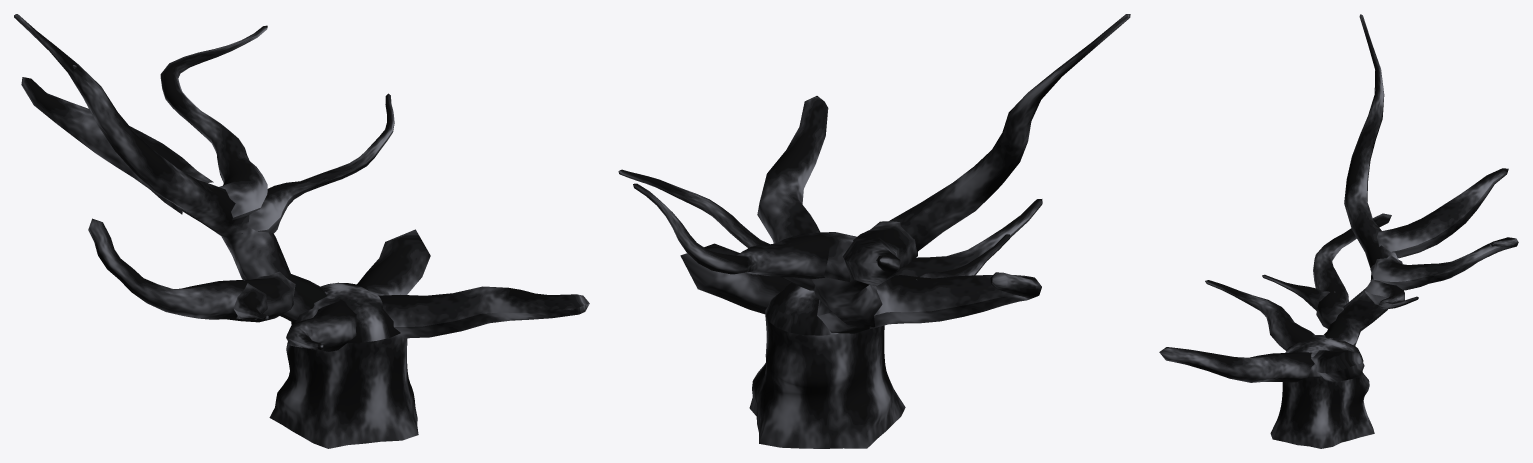
The model's file is TarTree01.glb.
3 views of the same model, side by side, from view 1: azimuth 30°, elevation 25°; view 2: azimuth 150°, elevation 25°; view 3: azimuth 270°, elevation 25° (orthographic). The views are drawn at different scales.
Parts seen in each view (by area): view 1: TarTree01_limbs; view 2: TarTree01_limbs; view 3: TarTree01_limbs.
Boxes of the visible parts, x1,y1,x2,y2 form: TarTree01_limbs: (14,14,589,448); TarTree01_limbs: (618,14,1130,448); TarTree01_limbs: (1159,14,1518,448).
Bounding box in the file's own units: 6.73 × 6.78 × 7.08.
Materials: 1 (1 with a texture image).
